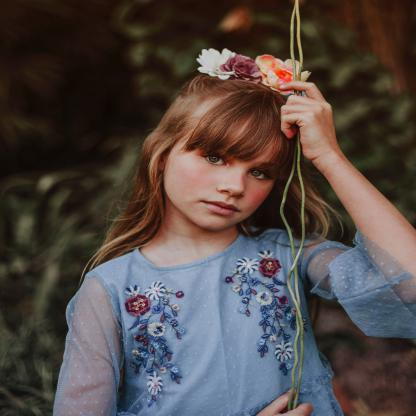Eye: (198, 150, 232, 170), (245, 166, 274, 184)
Mouth: (200, 198, 246, 220)
Nose: (214, 169, 245, 199)
